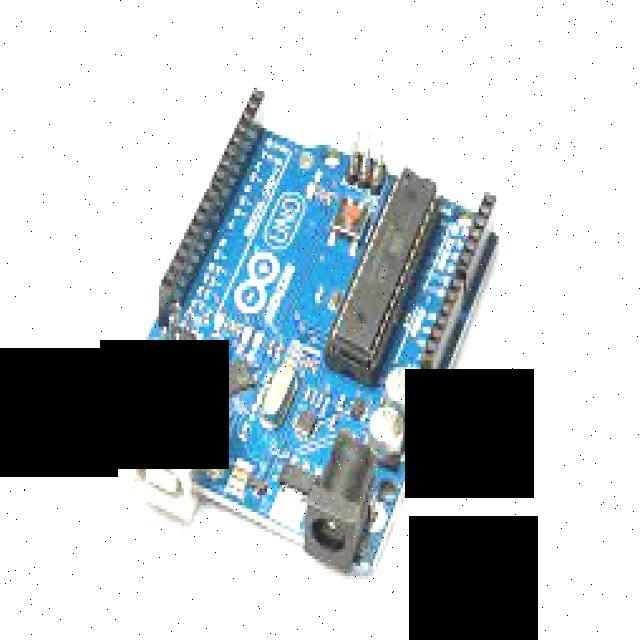arduino: (110, 93, 506, 575)
